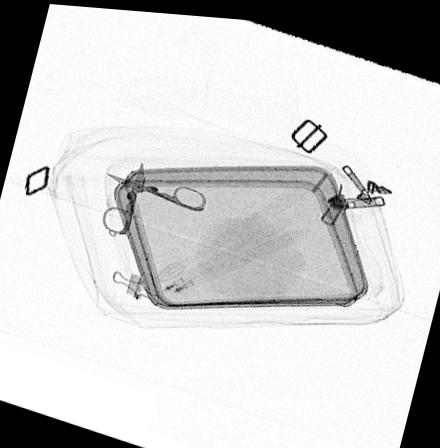Scissors: (100, 158, 207, 237)
